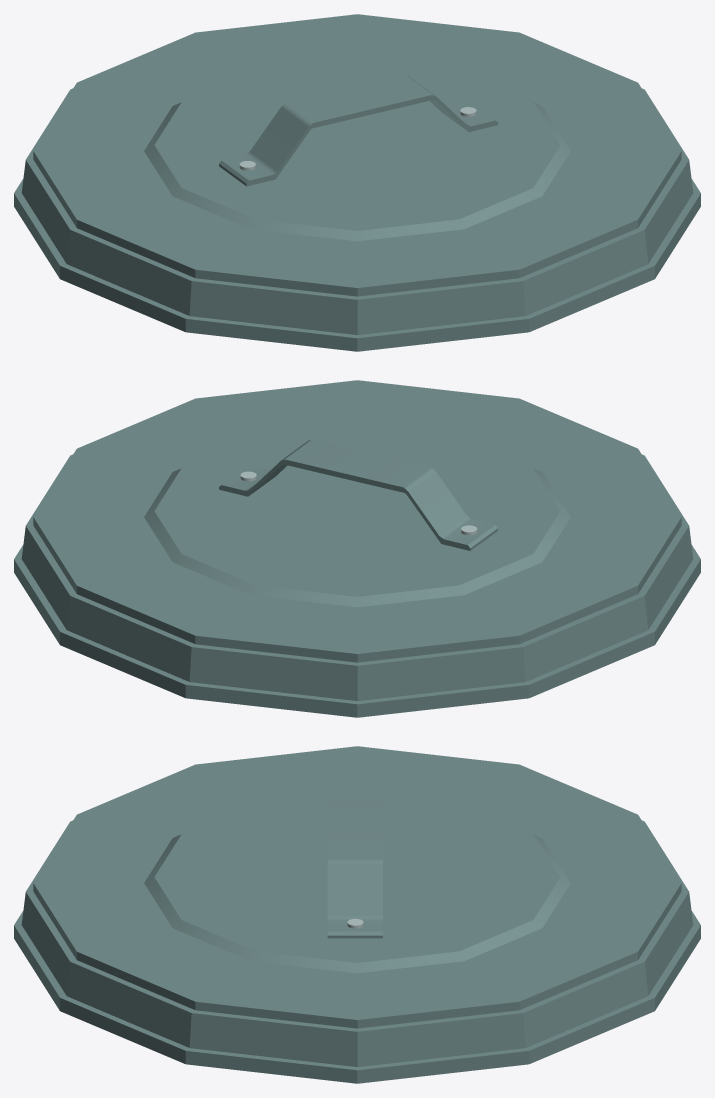
Rendered from ColouredBinLid.fbx.
3 views of the same model, one above another, from view 1: azimuth 30°, elevation 25°; view 2: azimuth 150°, elevation 25°; view 3: azimuth 270°, elevation 25° (orthographic).
Visible parts, largest first — view 1: Bin_lid1; view 2: Bin_lid1; view 3: Bin_lid1.
Boxes of the visible parts, box(x1,y1,x2,y2) form: Bin_lid1: box(14, 14, 700, 351); Bin_lid1: box(14, 380, 700, 717); Bin_lid1: box(14, 746, 700, 1083).
Size of the model in its own units: 1.02 by 0.179 by 1.02.
